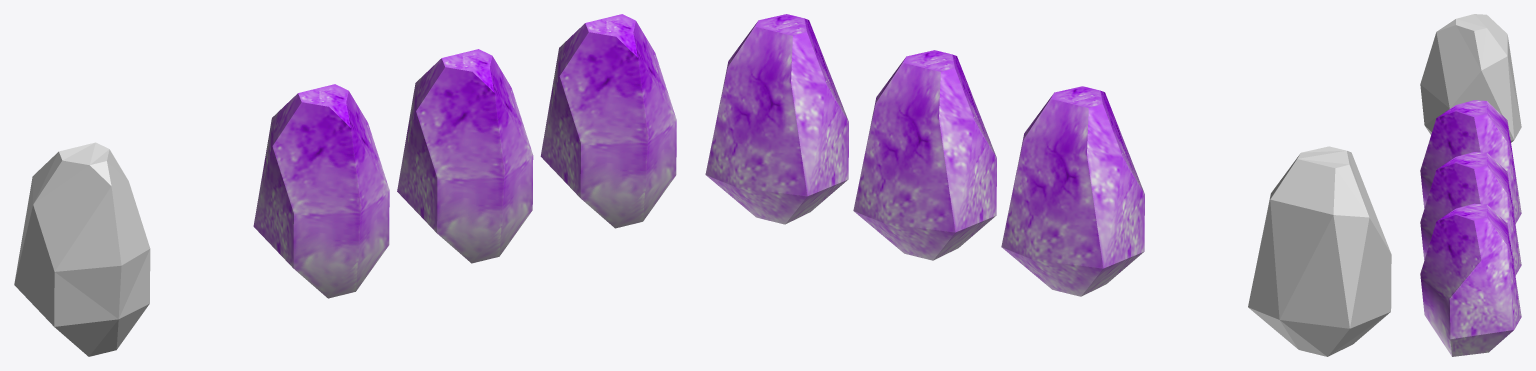
The model's file is hwccrystal_1.dae.
The picture shows the model from 3 angles, left to right: view 1: azimuth 30°, elevation 25°; view 2: azimuth 150°, elevation 25°; view 3: azimuth 270°, elevation 25°; orthographic projection. The views are drawn at different scales.
Parts seen in each view (by area): view 1: MULT[Root_mesh]_LOD[0], MULT[Root_mesh]_LOD[2], COL[Root], MULT[Root_mesh]_LOD[1]; view 2: COL[Root], MULT[Root_mesh]_LOD[0], MULT[Root_mesh]_LOD[1], MULT[Root_mesh]_LOD[2]; view 3: MULT[Root_mesh]_LOD[2], COL[Root], MULT[Root_mesh]_LOD[1], MULT[Root_mesh]_LOD[0].
Part boxes in pixels (x1,y1,x2,y2): MULT[Root_mesh]_LOD[0]: [253, 84, 389, 298]; MULT[Root_mesh]_LOD[2]: [540, 14, 676, 228]; COL[Root]: [14, 142, 150, 356]; MULT[Root_mesh]_LOD[1]: [397, 49, 533, 263]; COL[Root]: [1248, 146, 1391, 356]; MULT[Root_mesh]_LOD[0]: [1001, 86, 1144, 296]; MULT[Root_mesh]_LOD[1]: [853, 50, 996, 260]; MULT[Root_mesh]_LOD[2]: [705, 14, 848, 224]; MULT[Root_mesh]_LOD[2]: [1420, 203, 1521, 356]; COL[Root]: [1420, 14, 1521, 142]; MULT[Root_mesh]_LOD[1]: [1420, 152, 1521, 275]; MULT[Root_mesh]_LOD[0]: [1420, 100, 1521, 223].
Bounding box in the file's own units: 212 × 61.87 × 40.55.
3 materials, 3 textured.
